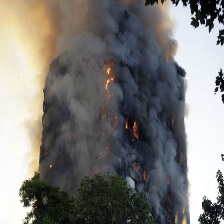fire: (120, 118, 138, 136), (103, 63, 114, 88)
smoke: (11, 1, 194, 193)
